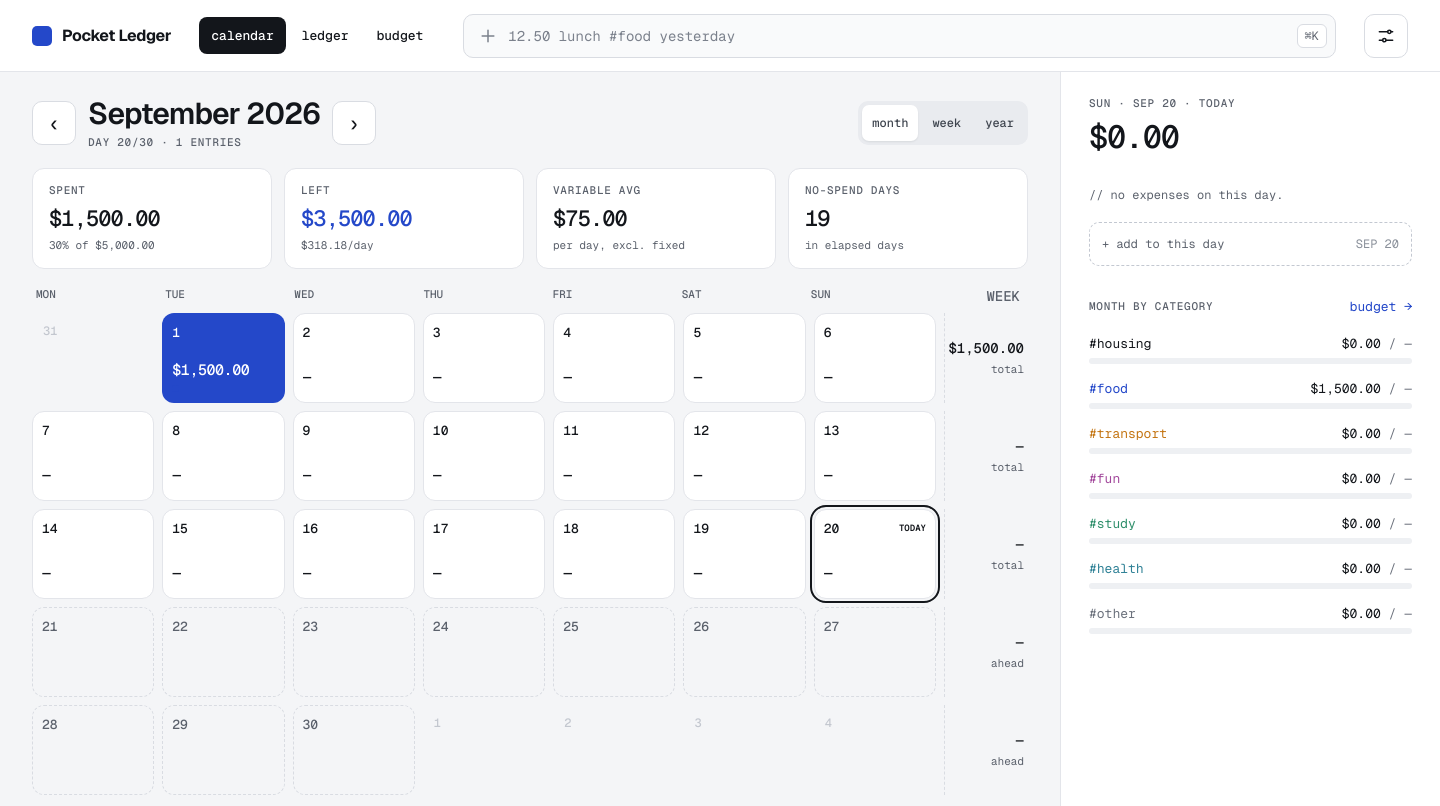
Test case: opens the calendar and selects a day to inspect its real entries
The width and height of the screenshot is (1440, 806).
Expected: the heading "September 2026" is shown, [88, 96, 320, 132]
Click the button named "September 1, 2026" at (223, 358), box [162, 313, 285, 403]
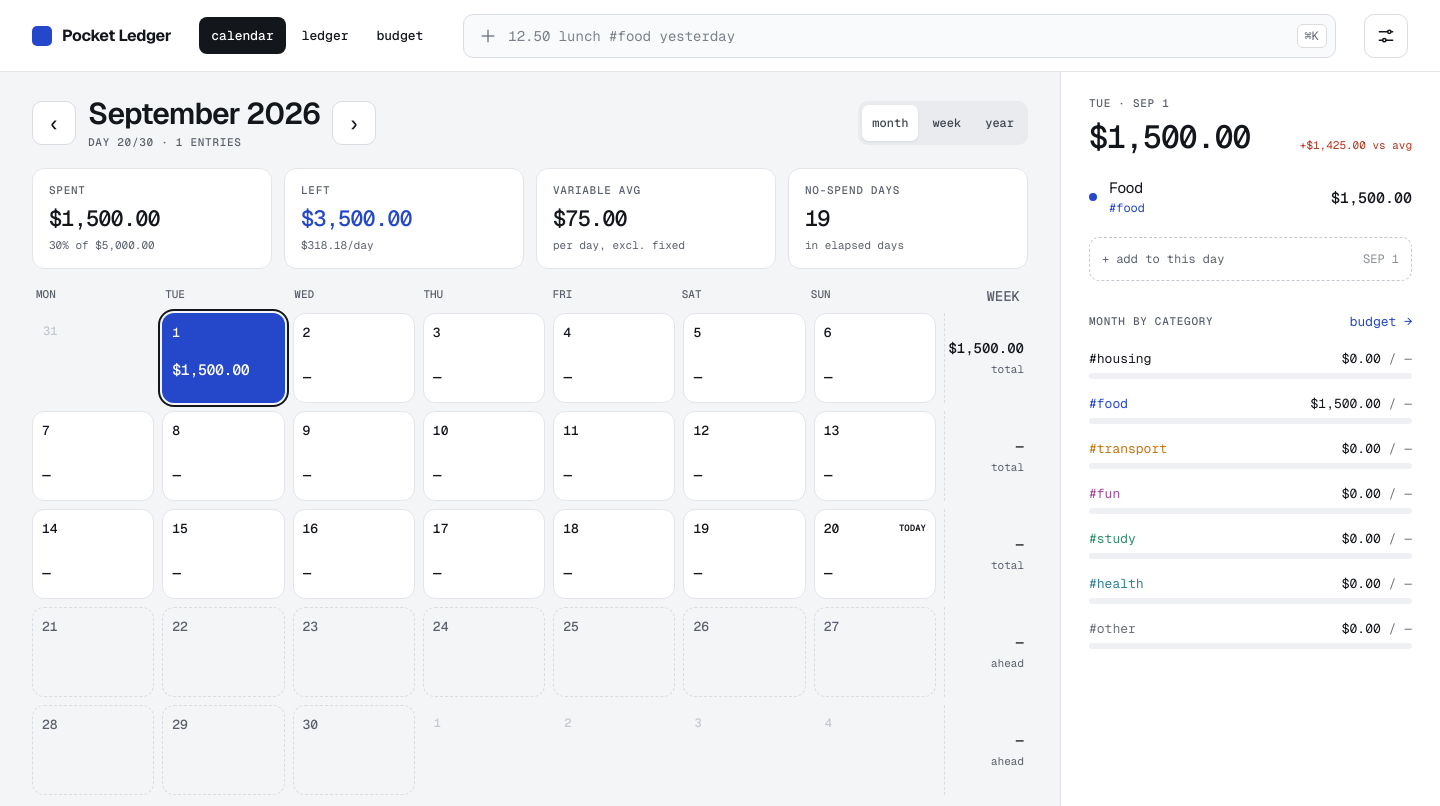
Expected: the element named "Selected day" shows "$1,500.00", [1089, 116, 1250, 157]
